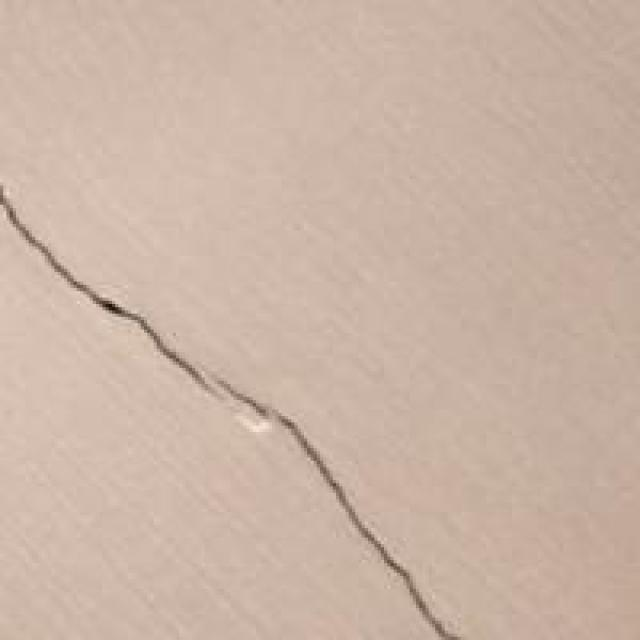Crack: (3, 157, 483, 637)
